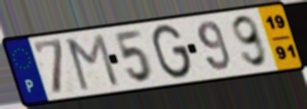5: (111, 27, 156, 85)
7: (31, 37, 67, 96)
9: (230, 13, 270, 69), (196, 20, 233, 73)
G: (150, 22, 194, 81)
M: (65, 32, 122, 93)
